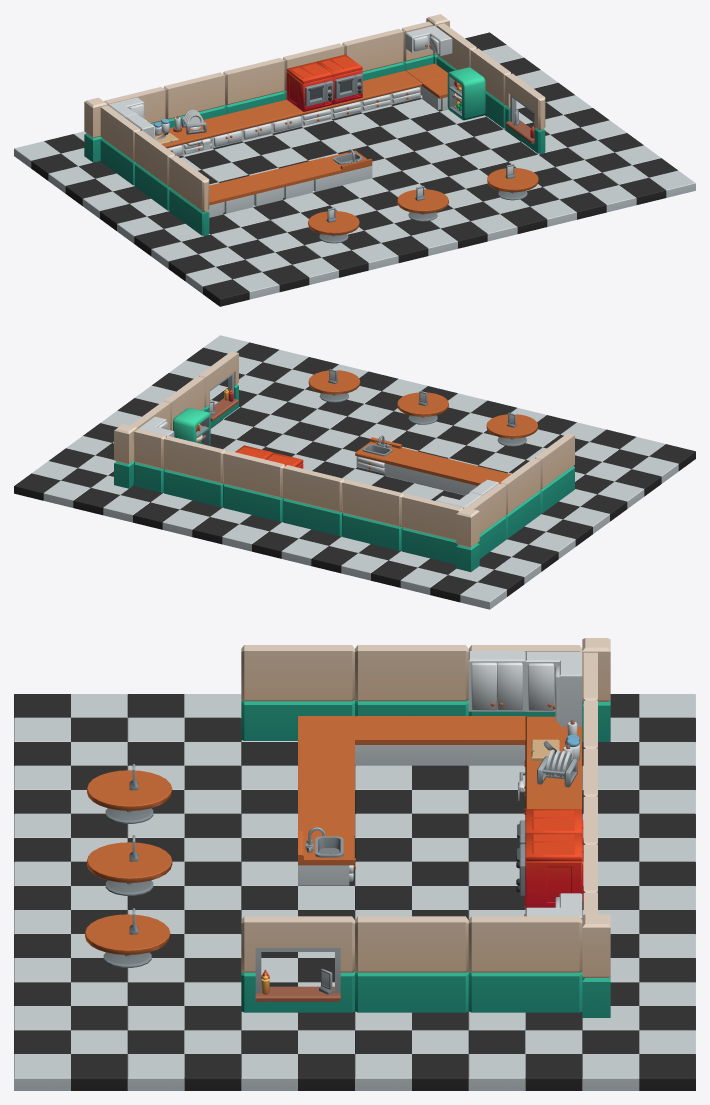
The model's file is MA_map2.glb.
3 renders of one model, top to bottom at view 1: azimuth 30°, elevation 25°; view 2: azimuth 150°, elevation 25°; view 3: azimuth 270°, elevation 25°, orthographic. The views are drawn at different scales.
Visible parts, largest first — view 1: floor_kitchen; view 2: floor_kitchen; view 3: floor_kitchen.
Part boxes in pixels (x1,y1,x2,y2): floor_kitchen: (14, 14, 695, 306); floor_kitchen: (14, 335, 695, 609); floor_kitchen: (14, 638, 695, 1090).
Bounding box in the file's own units: 32 × 4.1 × 24.
Materials: 48 (48 with a texture image).
